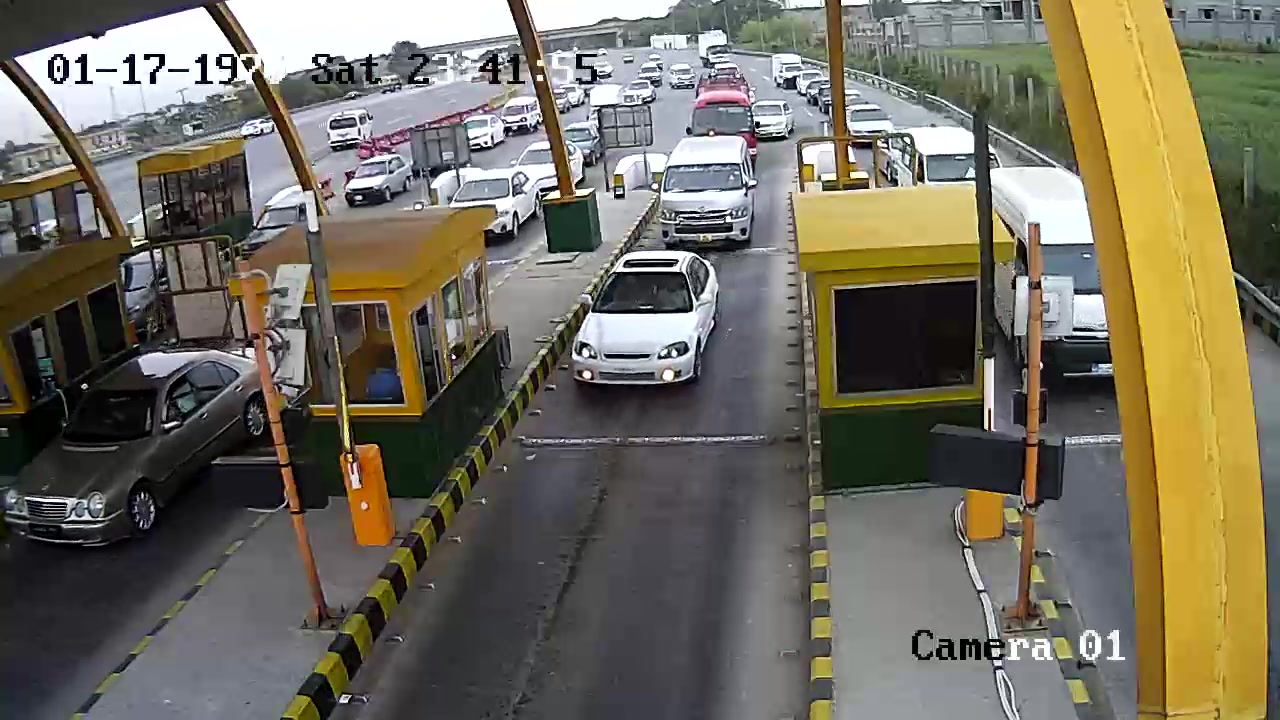F1: (560, 242, 737, 402)
